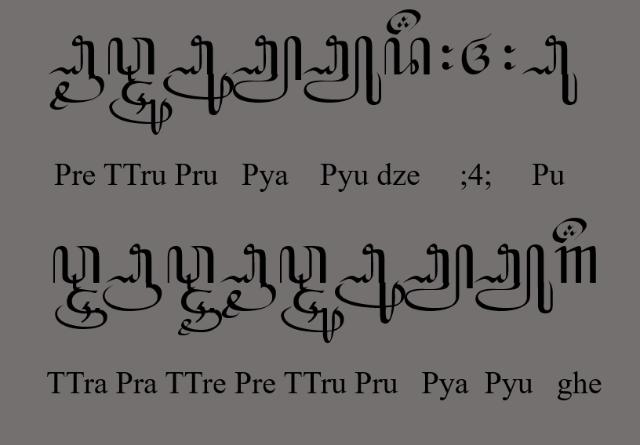4: (461, 32, 493, 76)
Pre: (47, 34, 105, 110)
T: (167, 244, 216, 292), (107, 36, 155, 82), (53, 245, 101, 291), (279, 245, 327, 291)
_Pr: (102, 244, 162, 312)
_Pre: (219, 243, 277, 319)
_Pru: (335, 244, 405, 325)
_Pu: (163, 34, 235, 116), (521, 34, 579, 106)
_Py: (230, 34, 302, 104), (402, 244, 474, 312)
_Pyu: (472, 242, 554, 314), (302, 34, 382, 106)
_Tr: (54, 290, 108, 331)
_Tre: (178, 289, 222, 337)
_Tru: (280, 290, 346, 344), (110, 80, 172, 136)
apit: (502, 44, 516, 72), (442, 44, 454, 72)
d: (384, 38, 432, 76)
ealt: (386, 8, 422, 36), (551, 217, 587, 244)
g: (554, 245, 596, 283)
